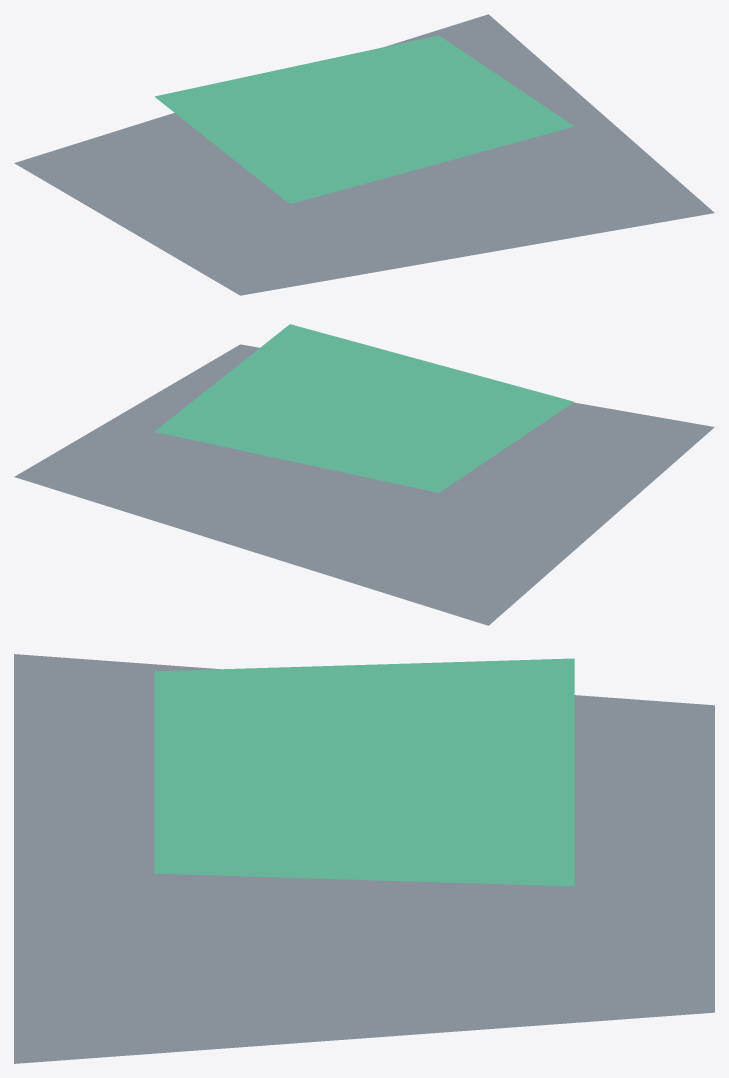
The model's file is CO_AgnipakshaBomber_LOD2.glb.
3 views of the same model, one above another, from view 1: azimuth 30°, elevation 25°; view 2: azimuth 150°, elevation 25°; view 3: azimuth 270°, elevation 25° (orthographic). The views are drawn at different scales.
Parts seen in each view (by area): view 1: EntranceGate; view 2: EntranceGate; view 3: EntranceGate.
Part boxes in pixels (left/top/right/bottom): EntranceGate: left=14, top=14, right=714, bottom=295; EntranceGate: left=14, top=324, right=714, bottom=625; EntranceGate: left=14, top=654, right=714, bottom=1063.
Size of the model in its own units: 920 by 142 by 760.
